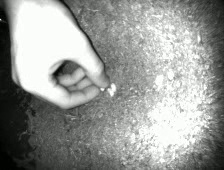corn: (104, 85, 117, 98), (153, 73, 165, 87), (108, 80, 119, 93), (98, 85, 106, 93)
